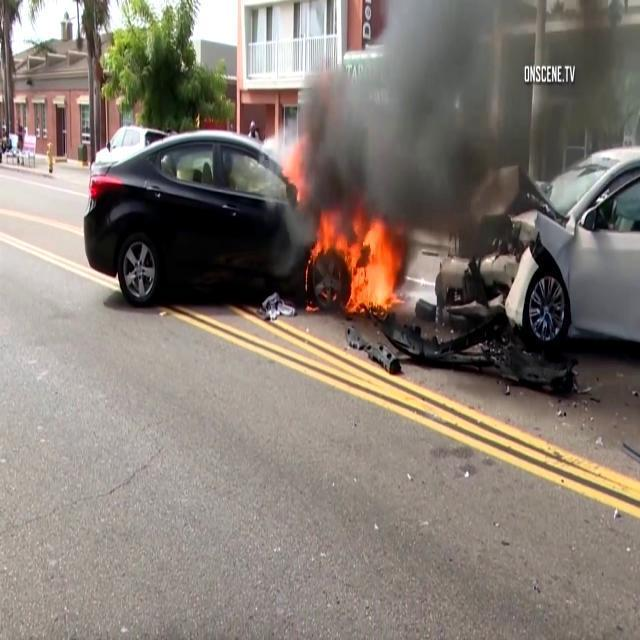Fire: (312, 214, 409, 328)
Smoke: (303, 1, 588, 240)
